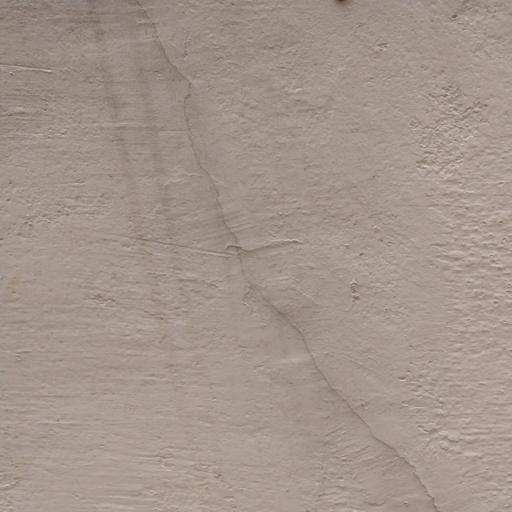minor_crack: (122, 0, 446, 512)
